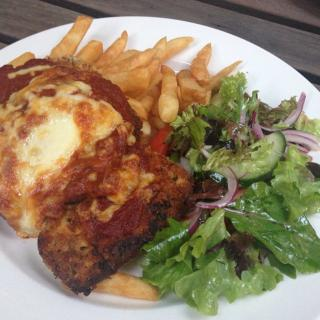French fries: (41, 7, 242, 139), (68, 272, 162, 308)
